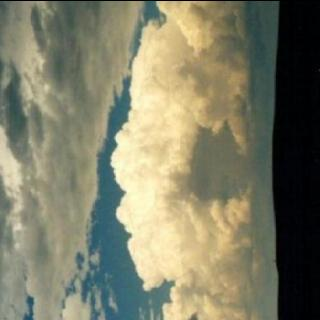Cumulus: (1, 0, 282, 320)
